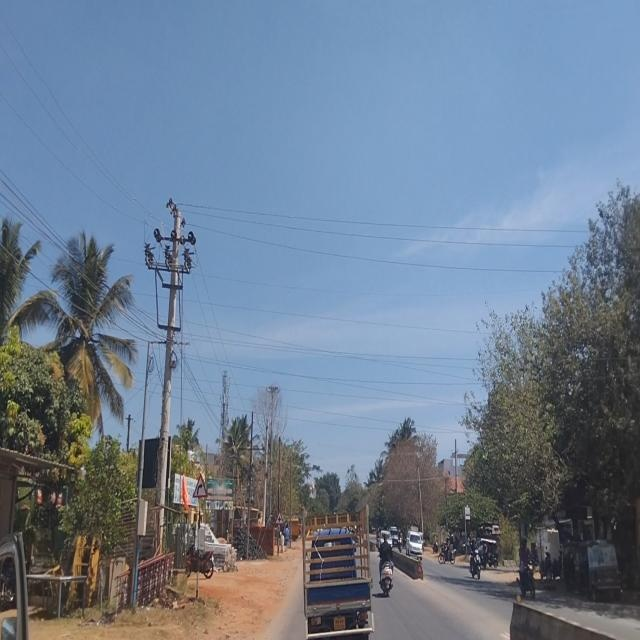bien_nguy_hiem: (192, 470, 208, 500), (274, 507, 284, 527)
